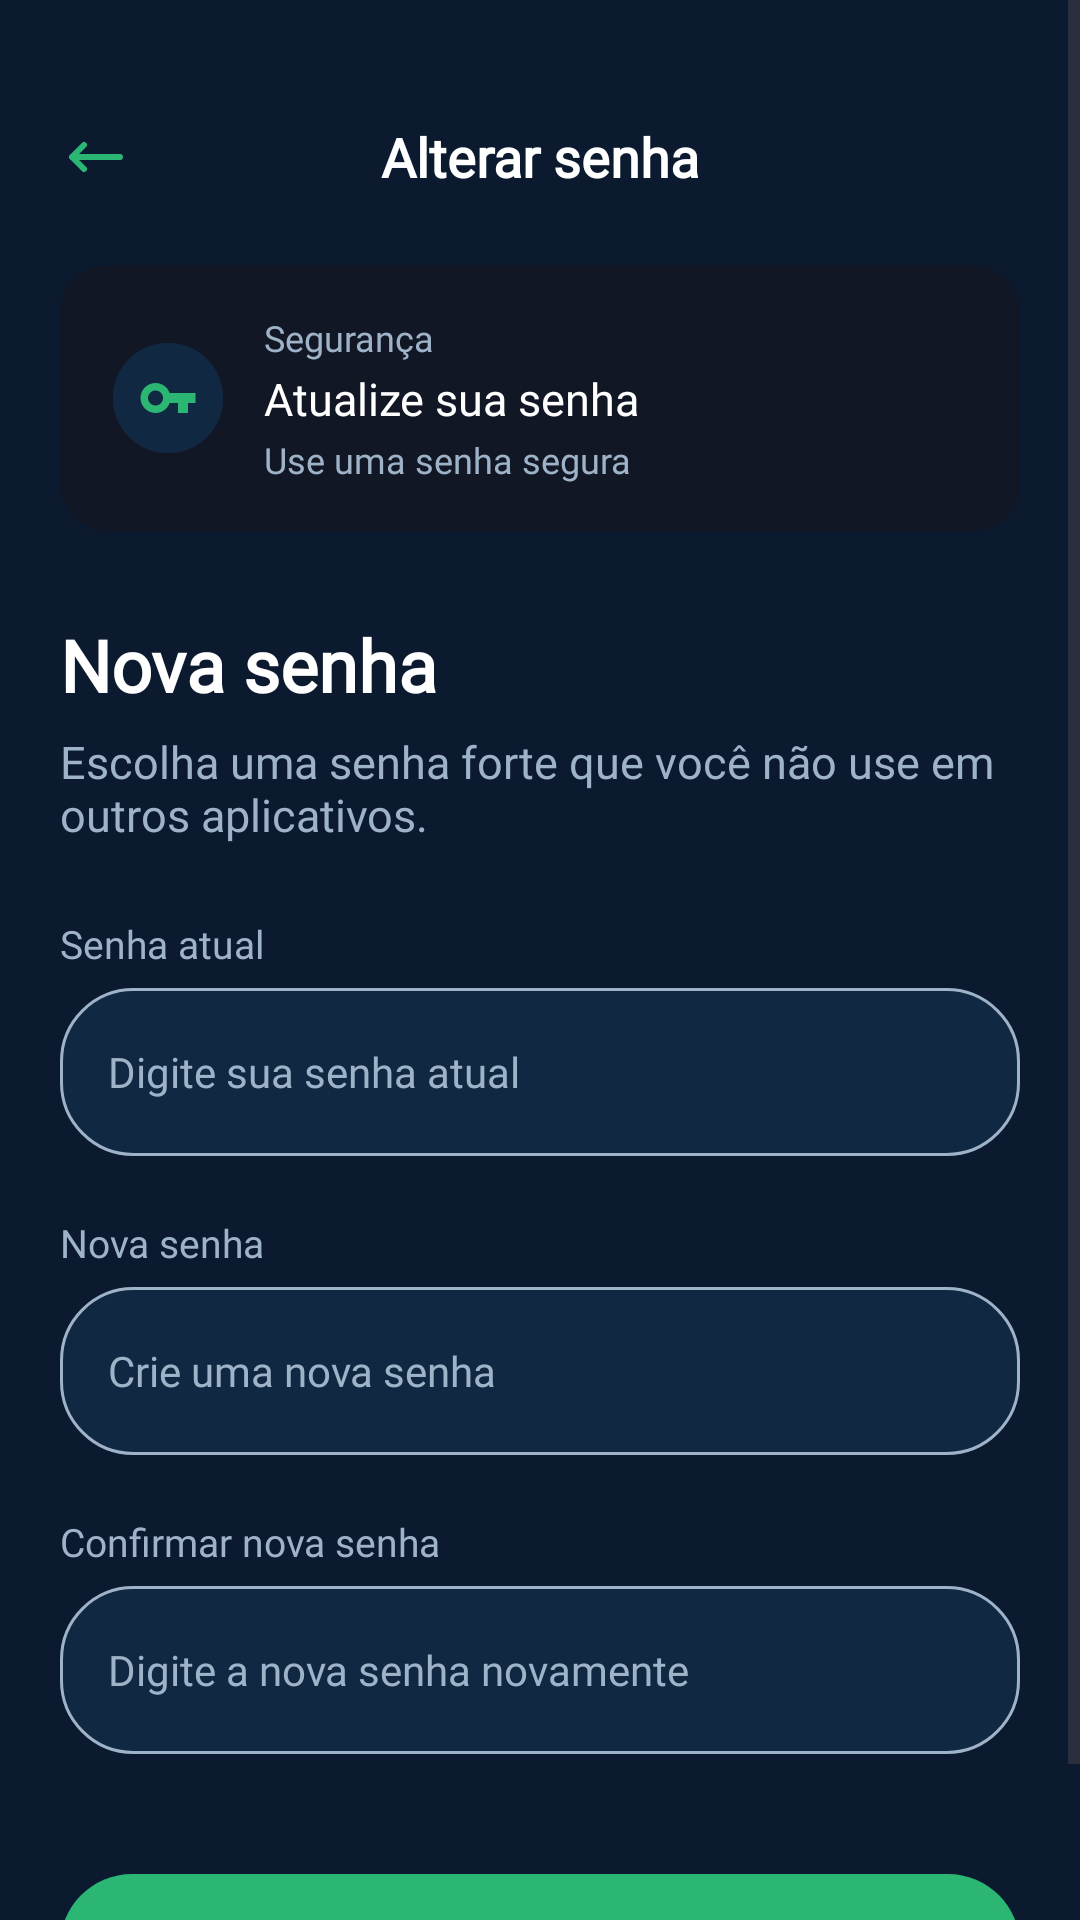

Named icons in this screenshot (1080px×1920px) and their bounding boxes, (x1, y1, x2, y2):
key: (140, 383, 196, 413)
Voltar: (69, 142, 123, 172)
